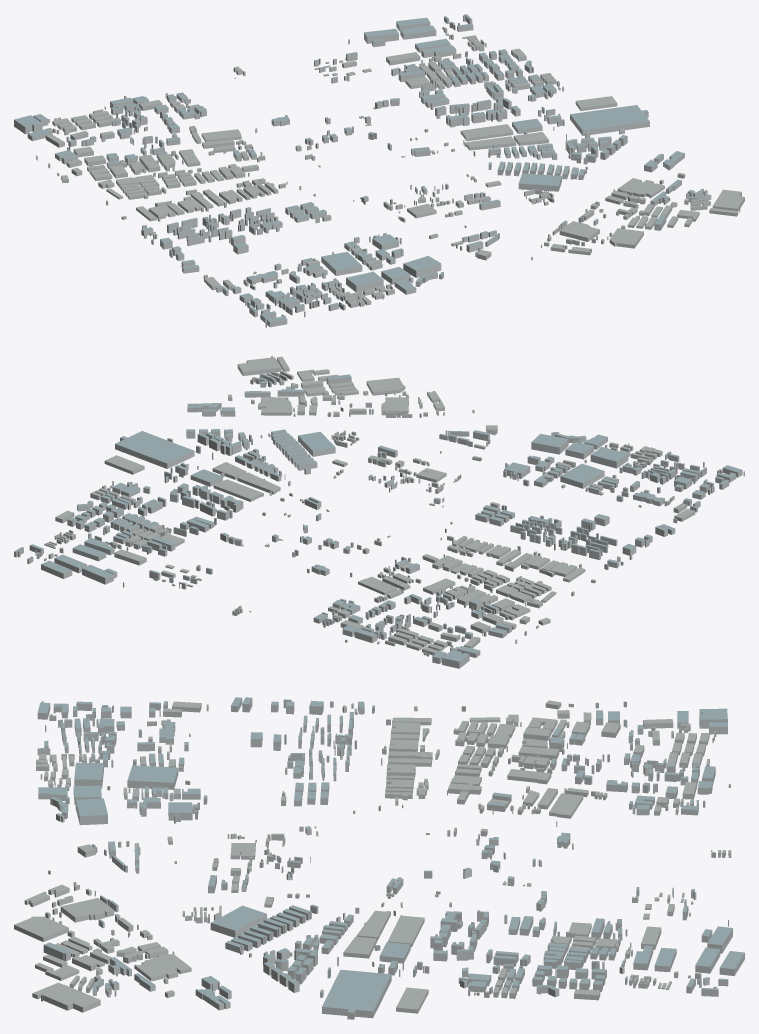
Rendered from far.glb.
3 renders of one model, top to bottom at view 1: azimuth 30°, elevation 25°; view 2: azimuth 150°, elevation 25°; view 3: azimuth 270°, elevation 25°, orthographic. The views are drawn at different scales.
Size of the model in its own units: 2239 by 34.7 by 2185.
